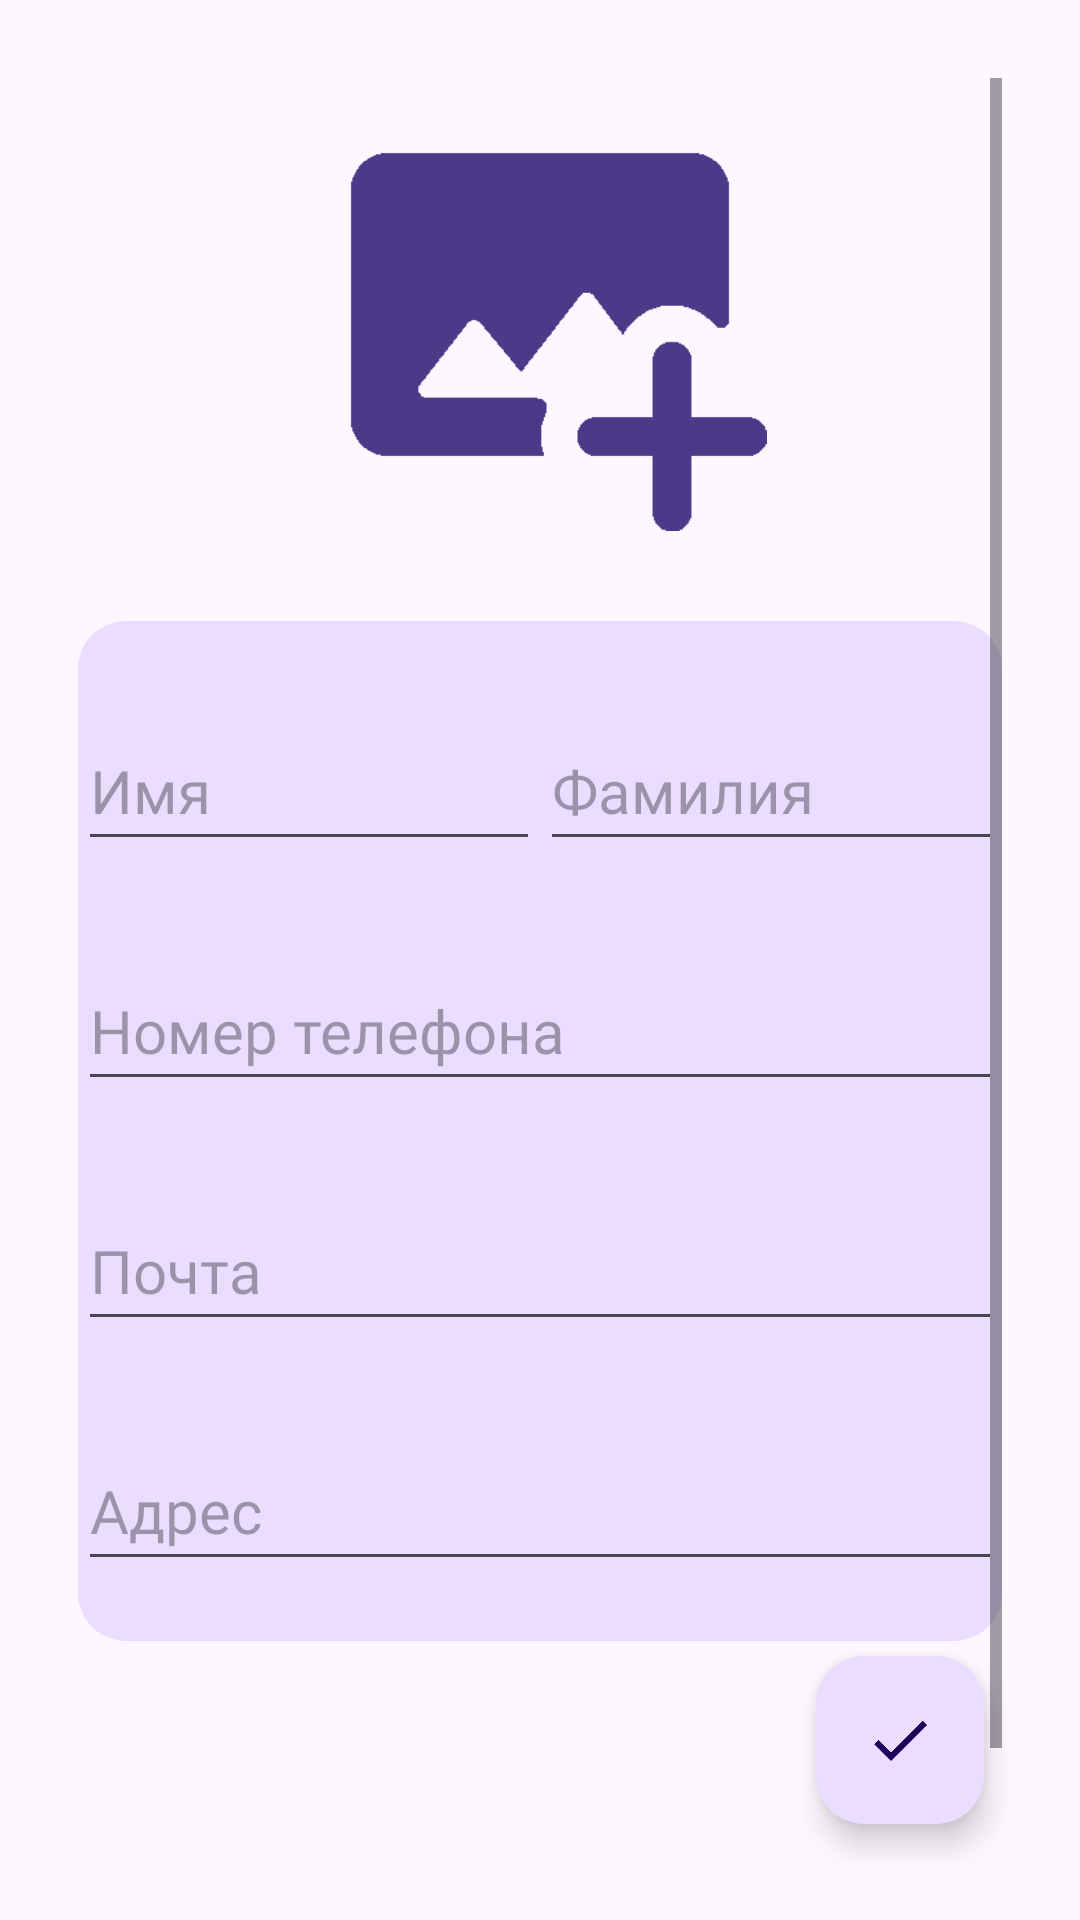

Where icons sit on this 1080×1920 app screen, as (x1, y1, x2, y2):
Сохранить: (816, 1656, 984, 1824)
